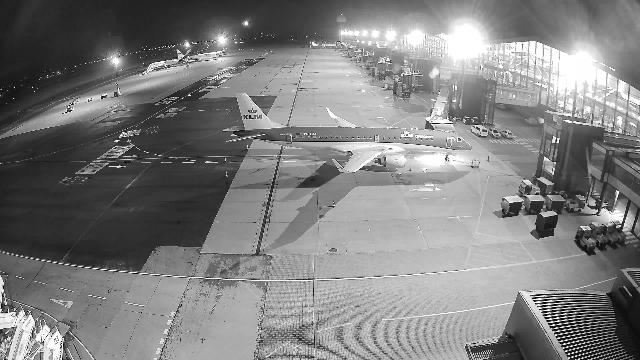Aircraft: (227, 93, 473, 173), (149, 49, 191, 68), (176, 49, 218, 61)
Airport_Tractor: (575, 225, 596, 251), (590, 221, 608, 247), (564, 195, 586, 212), (602, 222, 618, 244), (518, 180, 540, 195), (611, 221, 625, 243)
Baggage_Trolley: (535, 210, 558, 230), (500, 195, 524, 214), (523, 195, 545, 210), (545, 195, 566, 210), (536, 177, 554, 193)
